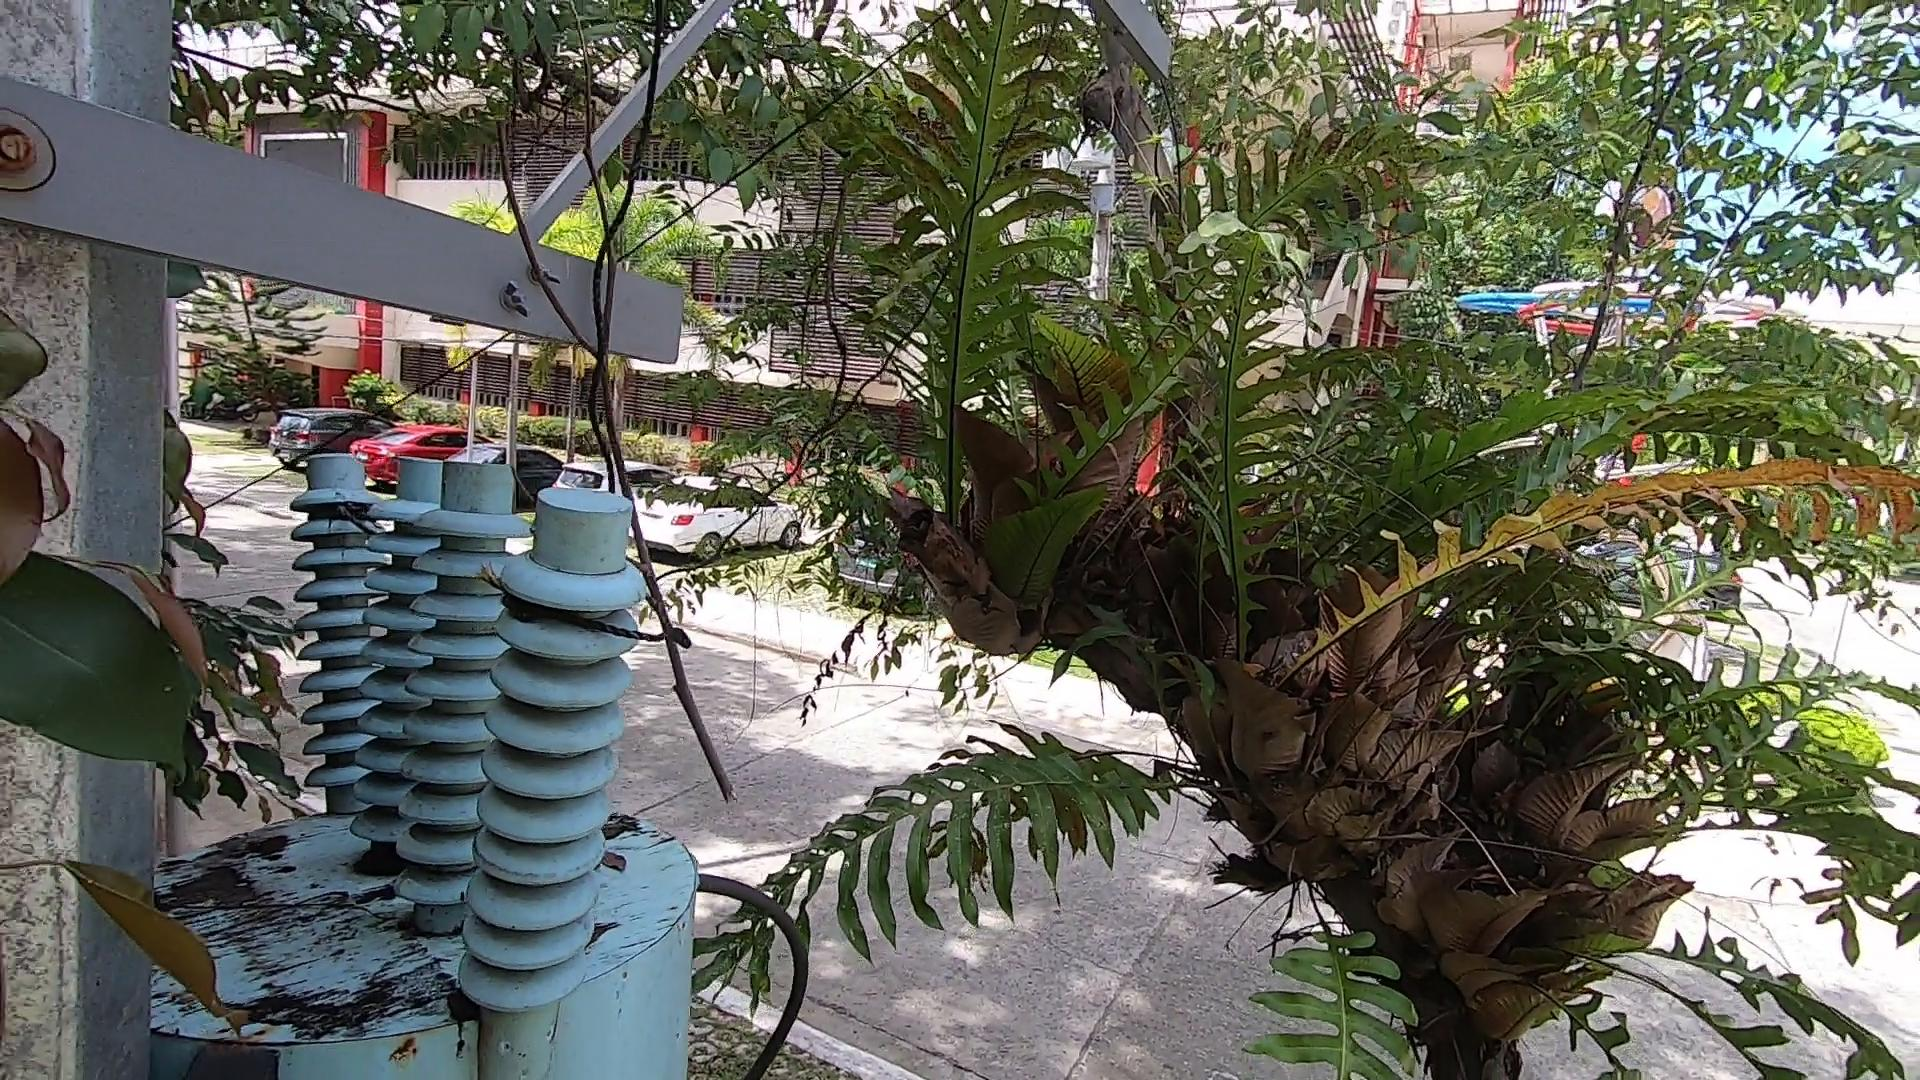leaf: (603, 818, 651, 852), (595, 839, 638, 876)
tree branch: (472, 3, 777, 807)
